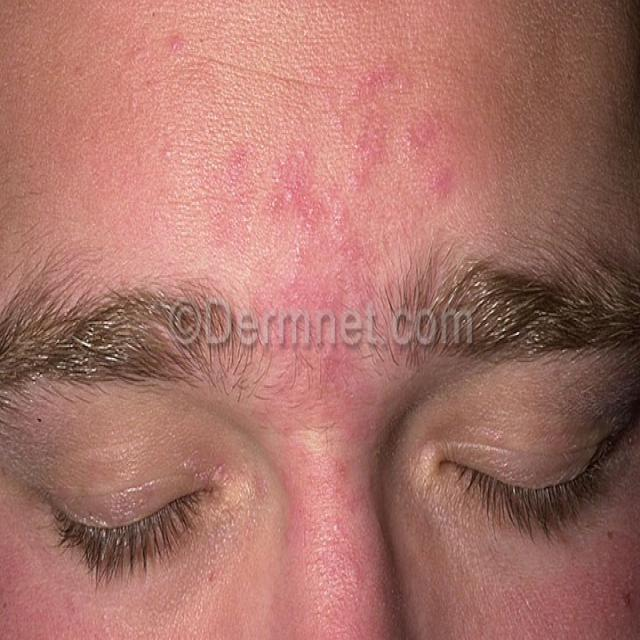Rosacea: (182, 32, 458, 640)
